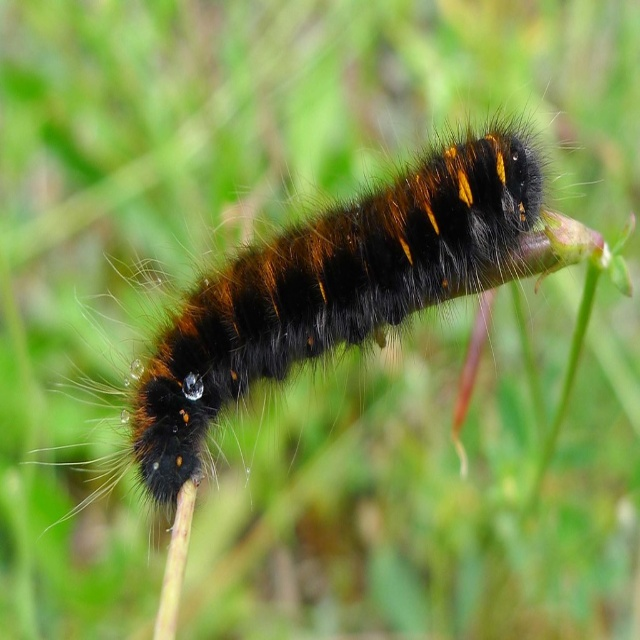Caterpillar: (19, 77, 606, 572)
